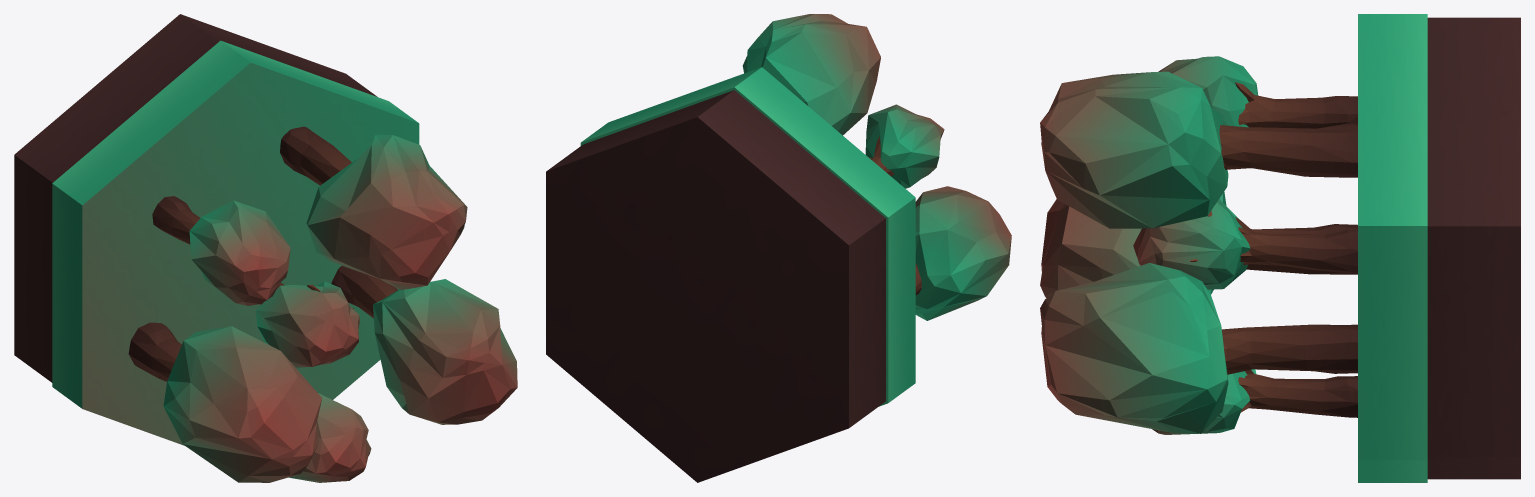
Rendered from LAUBWALD_B_EX.fbx.
The picture shows the model from 3 angles, left to right: view 1: azimuth 30°, elevation 25°; view 2: azimuth 150°, elevation 25°; view 3: azimuth 270°, elevation 25°; orthographic projection. The views are drawn at different scales.
Visible parts, largest first — view 1: LAUBWALD_B_EX; view 2: LAUBWALD_B_EX; view 3: LAUBWALD_B_EX.
Part boxes in pixels (x1=…): LAUBWALD_B_EX: x1=14, y1=14, x2=517, y2=482; LAUBWALD_B_EX: x1=546, y1=14, x2=1011, y2=482; LAUBWALD_B_EX: x1=1040, y1=14, x2=1520, y2=482.
Size of the model in its own units: 172 by 199 by 185.
